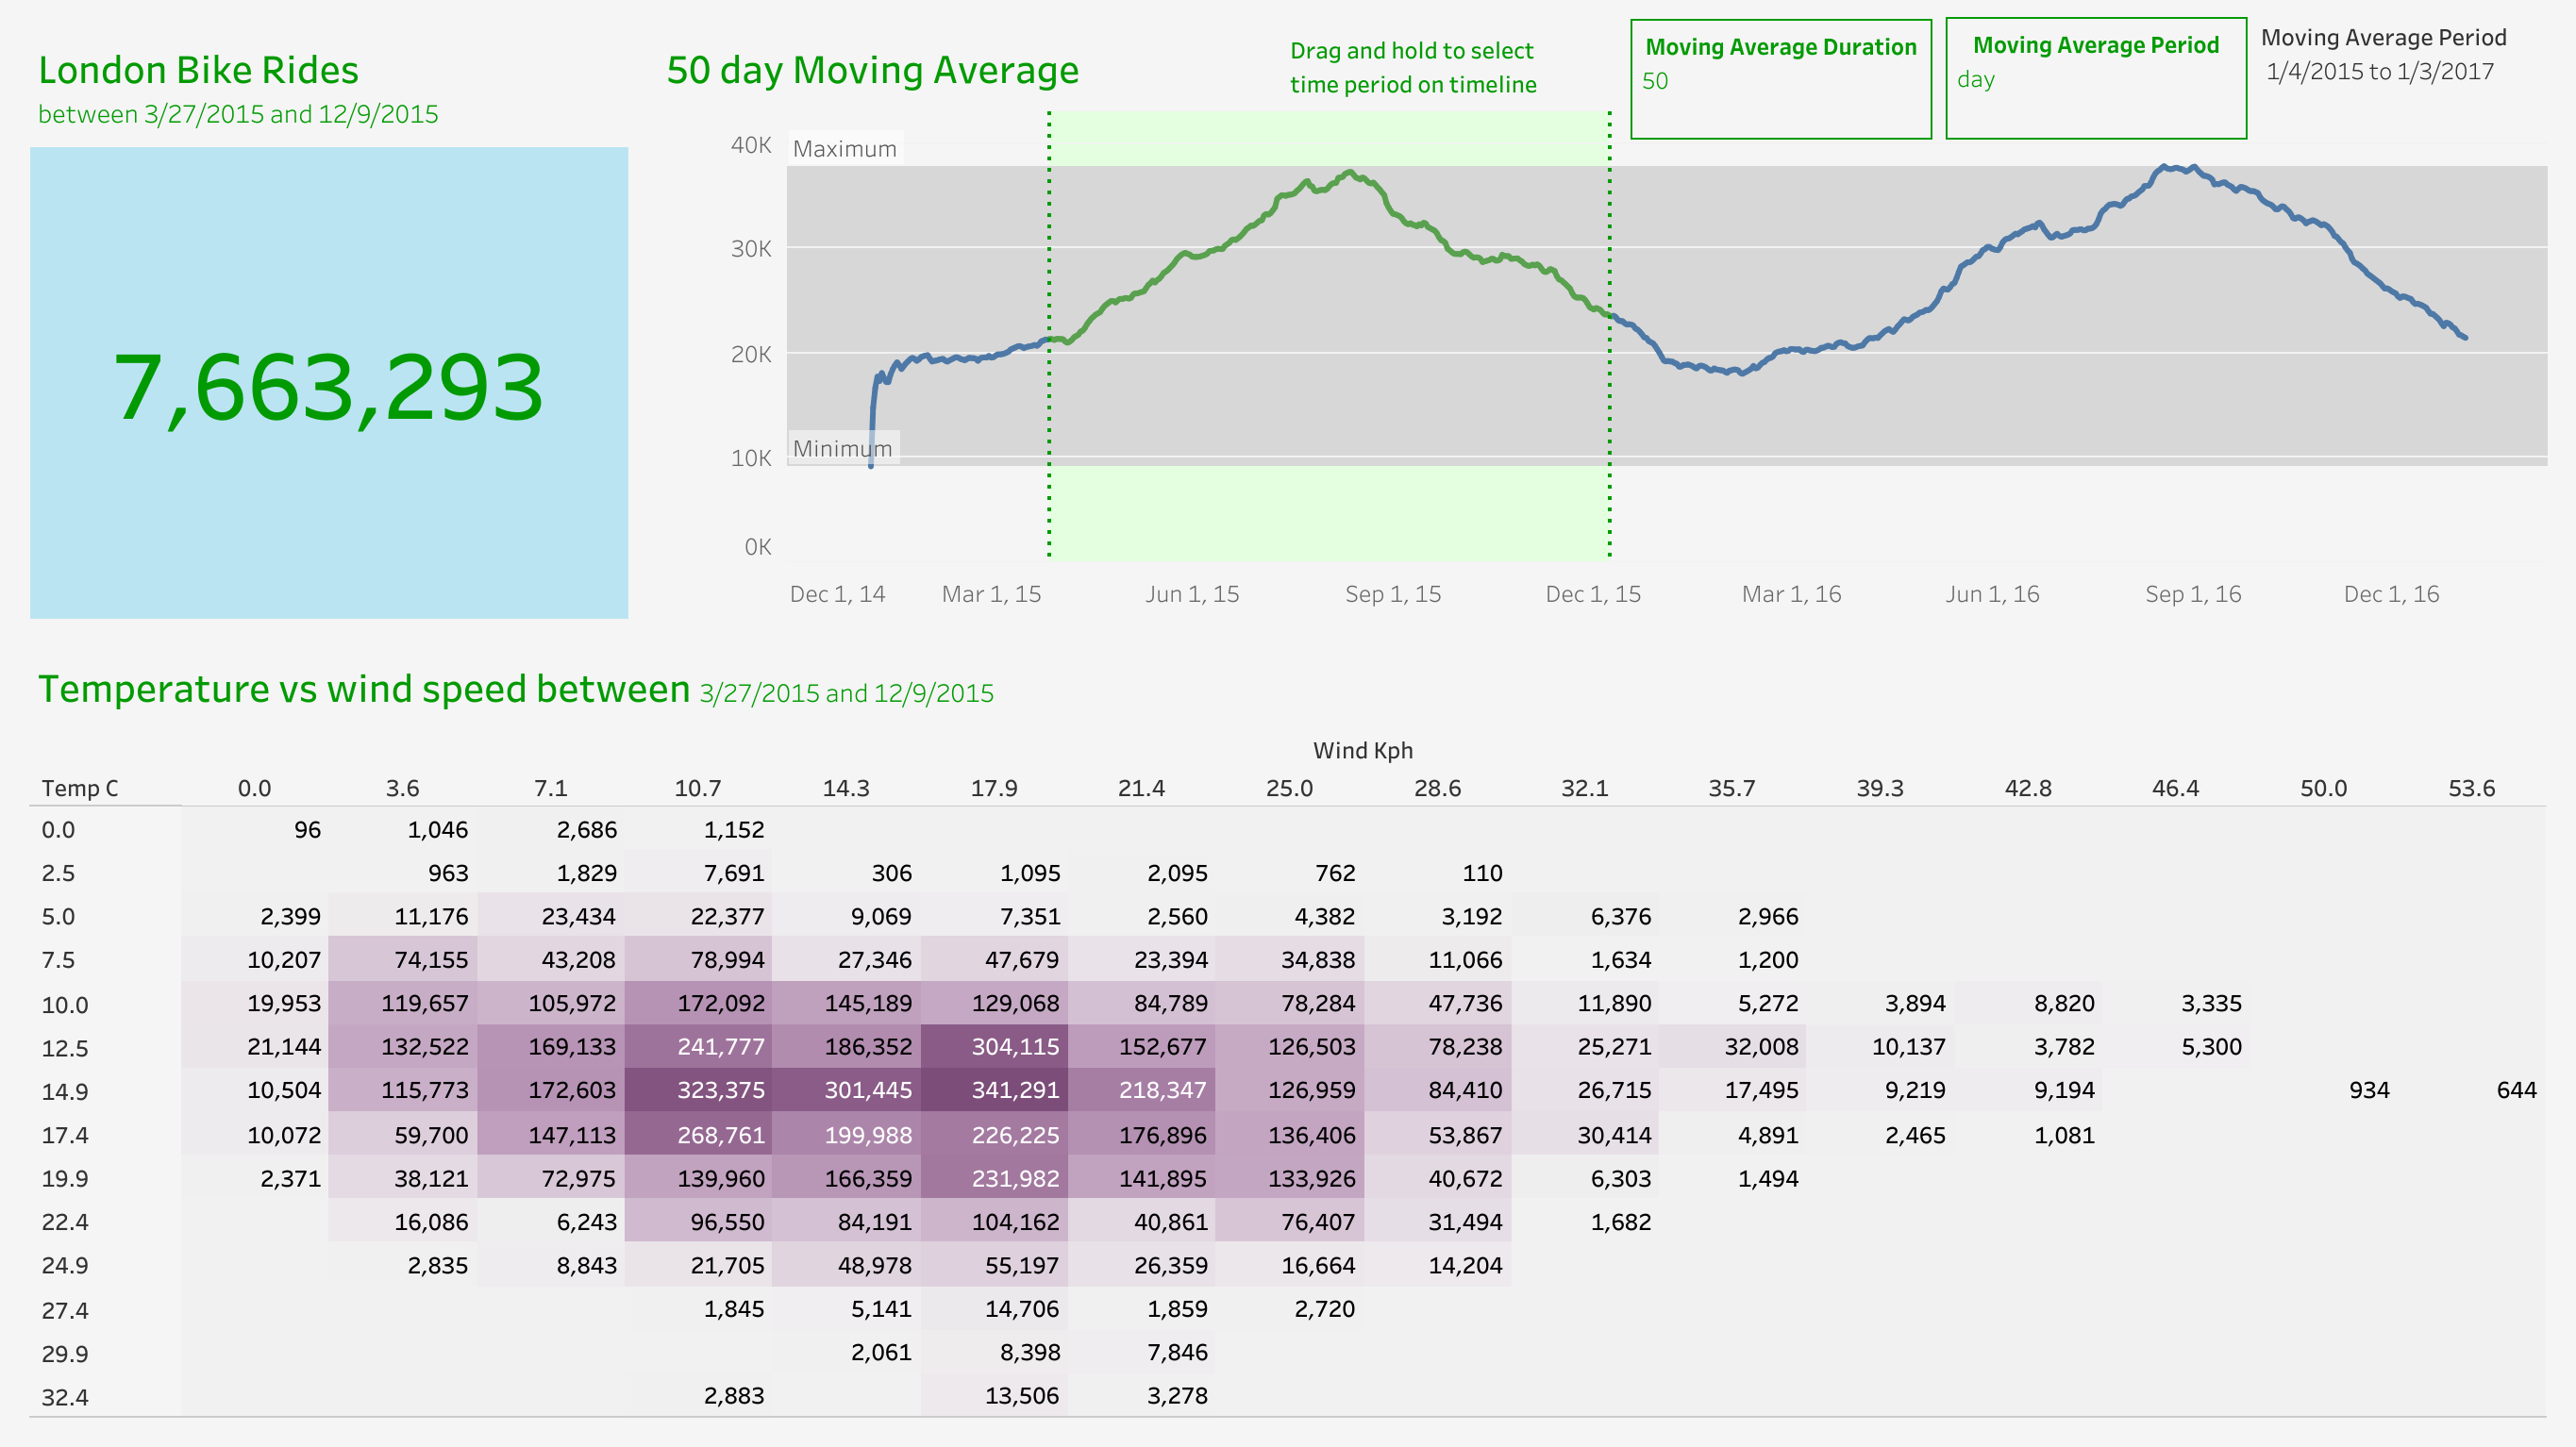

The page's visual inventory and layout, read from the dashboard file:
{"tool":"tableau","page":{"name":"Dashboard 1","canvas":[1366,768],"ordinal":0},"visuals":[{"type":"worksheet","title":"Total Rides","mark":"Automatic","box":[8,8,332.9,328]},{"type":"worksheet","title":"Moving Average","mark":"Automatic","rows":["Calculation1"],"cols":["Calculation_5241064132019216384"],"box":[341,8,1017,328]},{"type":"parameter","param":"[Parameters].[Parameter 1]","box":[1031,9,160,65]},{"type":"filter","title":"Moving Average","param":"[federated.0wp77wj1ly8yf211lrk7u0rsvcjq].[none:Calculation_5241064132019216384:q","box":[1198,9,172,63]},{"type":"parameter","param":"[Parameters].[Parameter 2]","box":[864,10,160,64]},{"type":"text","box":[681,13,179,44]},{"type":"worksheet","title":"Heat Map","mark":"Square","rows":["temp real C (bin)"],"cols":["Wind Speed Kph (bin)"],"box":[8,336,1350,424]}]}

Visuals, with their boxes in screenshot pixels (x1, y1, x2, y2), scaled from the page's 1366x768 canvas onto the 2576x1447 screenshot:
"Total Rides" worksheet: l=15, t=15, r=643, b=633
"Moving Average" worksheet: l=644, t=15, r=2561, b=633
parameter: l=1944, t=17, r=2246, b=140
"Moving Average" filter: l=2259, t=17, r=2575, b=136
parameter: l=1630, t=19, r=1932, b=140
text: l=1284, t=25, r=1622, b=108
"Heat Map" worksheet (Square marks): l=15, t=633, r=2561, b=1432
